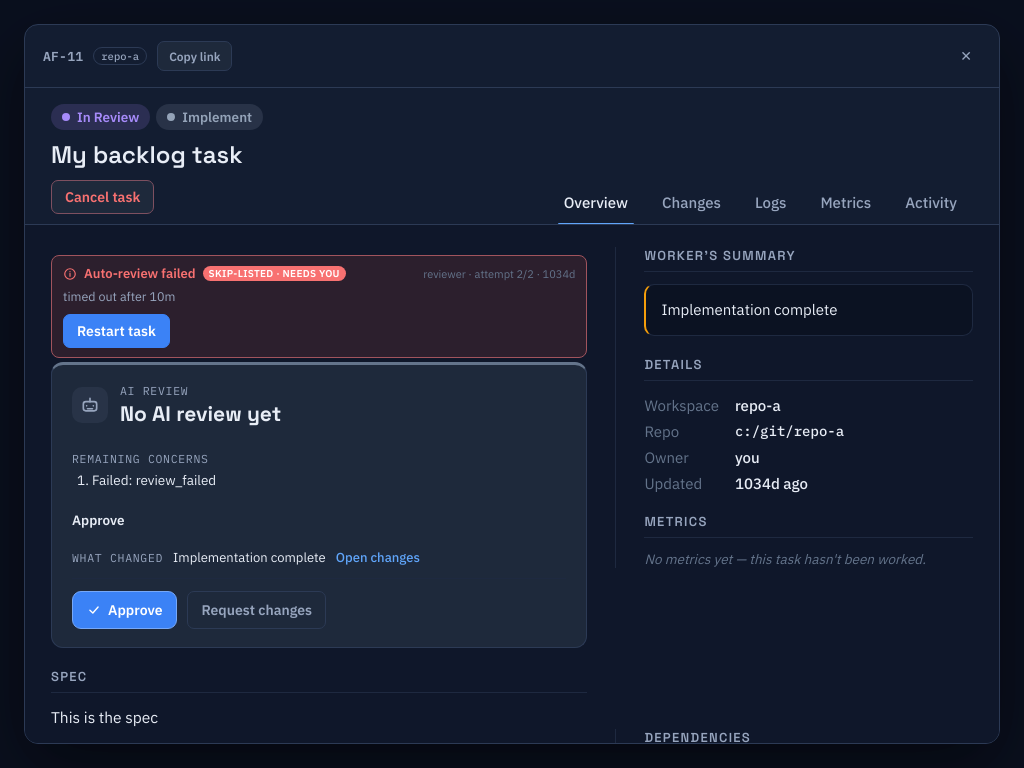
Test: DetailPanel › shows a restart failure instead of making the button appear inert
Step 1. Click the button "Restart task" → [116, 331], box [63, 314, 170, 348]
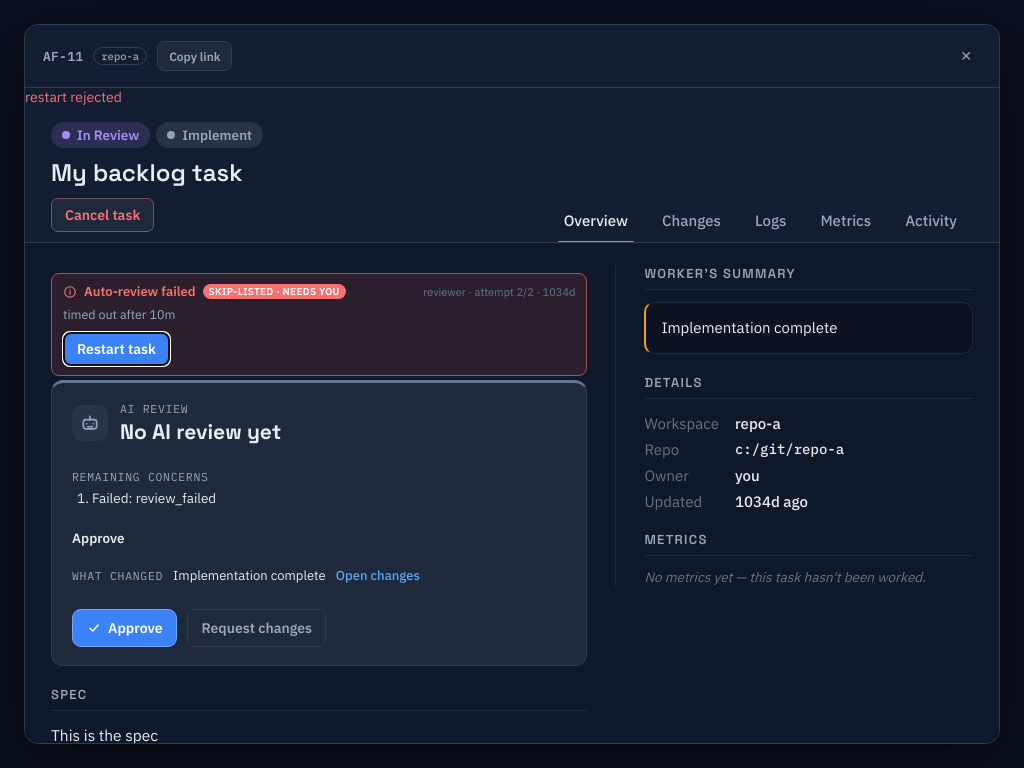
Expected: the text "restart rejected" is shown, [25, 88, 122, 106]
